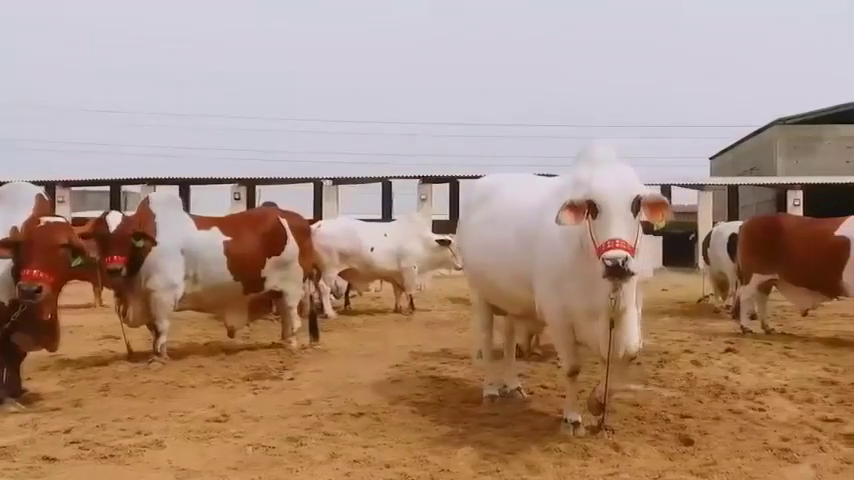bo: (454, 136, 679, 446), (90, 185, 321, 371), (1, 168, 99, 425), (311, 195, 460, 327), (743, 202, 854, 349), (695, 205, 746, 309)
